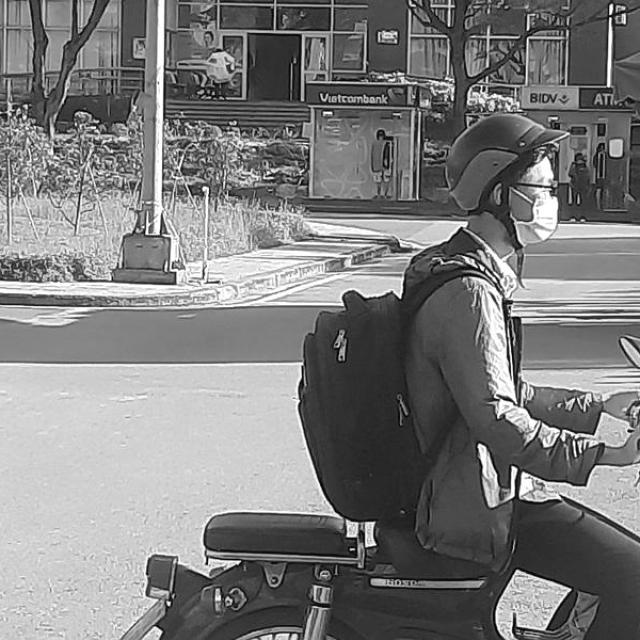Helmet: (442, 106, 564, 247)
